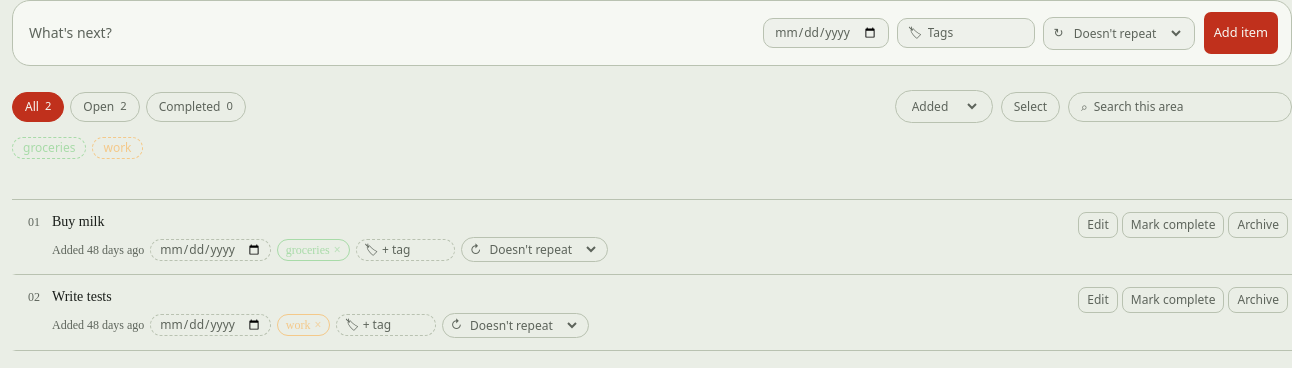
Test: TaskWorkspace › filters tasks by tag
Click the button "groceries".
click(49, 148)  # box [12,137,86,159]
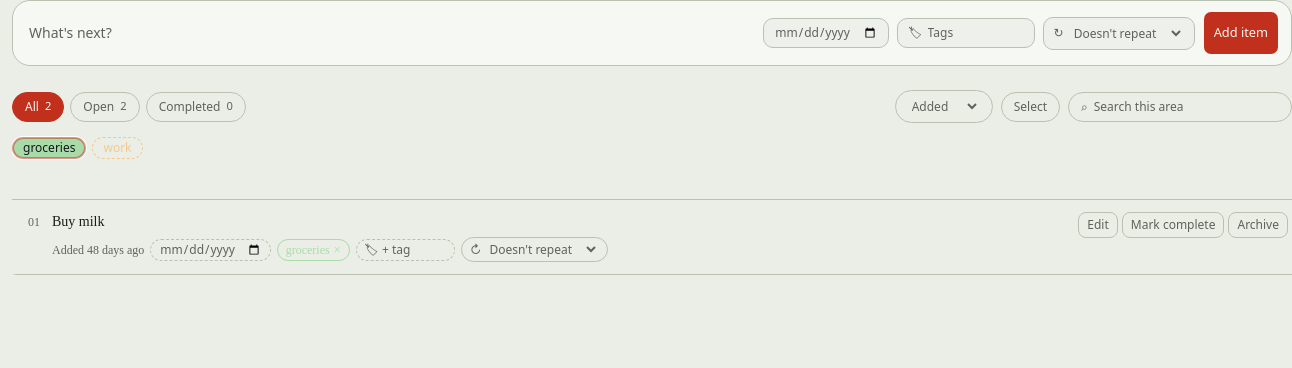
expect the link "Buy milk" is shown: met, box [52,214,104,229]
expect the link "Write tests" is gone: met
